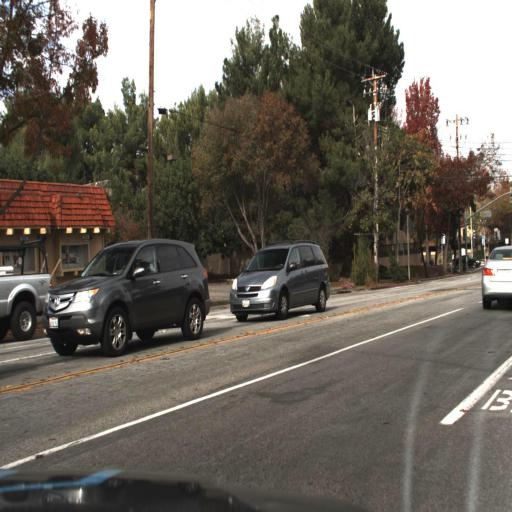car: (34, 220, 215, 370), (40, 236, 214, 356), (214, 227, 352, 337), (0, 262, 56, 339), (474, 220, 511, 323), (479, 238, 511, 312), (449, 248, 481, 270)
